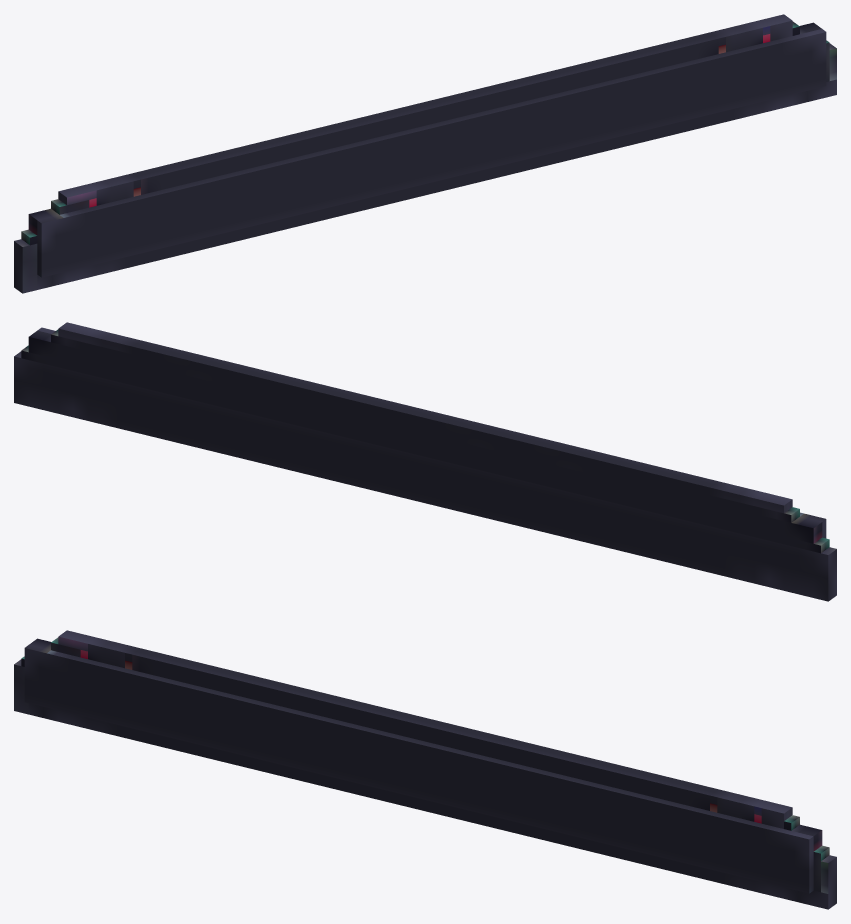
File: Electronics_Plate_Long_E_00.fbx
3 renders of one model, top to bottom at view 1: azimuth 30°, elevation 25°; view 2: azimuth 150°, elevation 25°; view 3: azimuth 330°, elevation 25°, orthographic.
Visible parts, largest first — view 1: Electronics_Plate_Long_E_00; view 2: Electronics_Plate_Long_E_00; view 3: Electronics_Plate_Long_E_00.
Part boxes in pixels (bbox=[...]): Electronics_Plate_Long_E_00: bbox=[14, 14, 836, 293]; Electronics_Plate_Long_E_00: bbox=[14, 322, 836, 601]; Electronics_Plate_Long_E_00: bbox=[14, 630, 836, 909].
Size of the model in its own units: 550 by 55 by 15.
